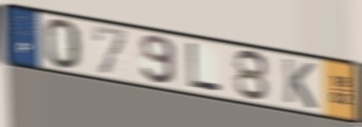0: (43, 17, 82, 70)
7: (92, 23, 128, 77)
8: (232, 49, 271, 103)
9: (139, 34, 176, 87)
K: (281, 56, 318, 111)
L: (186, 41, 224, 94)
